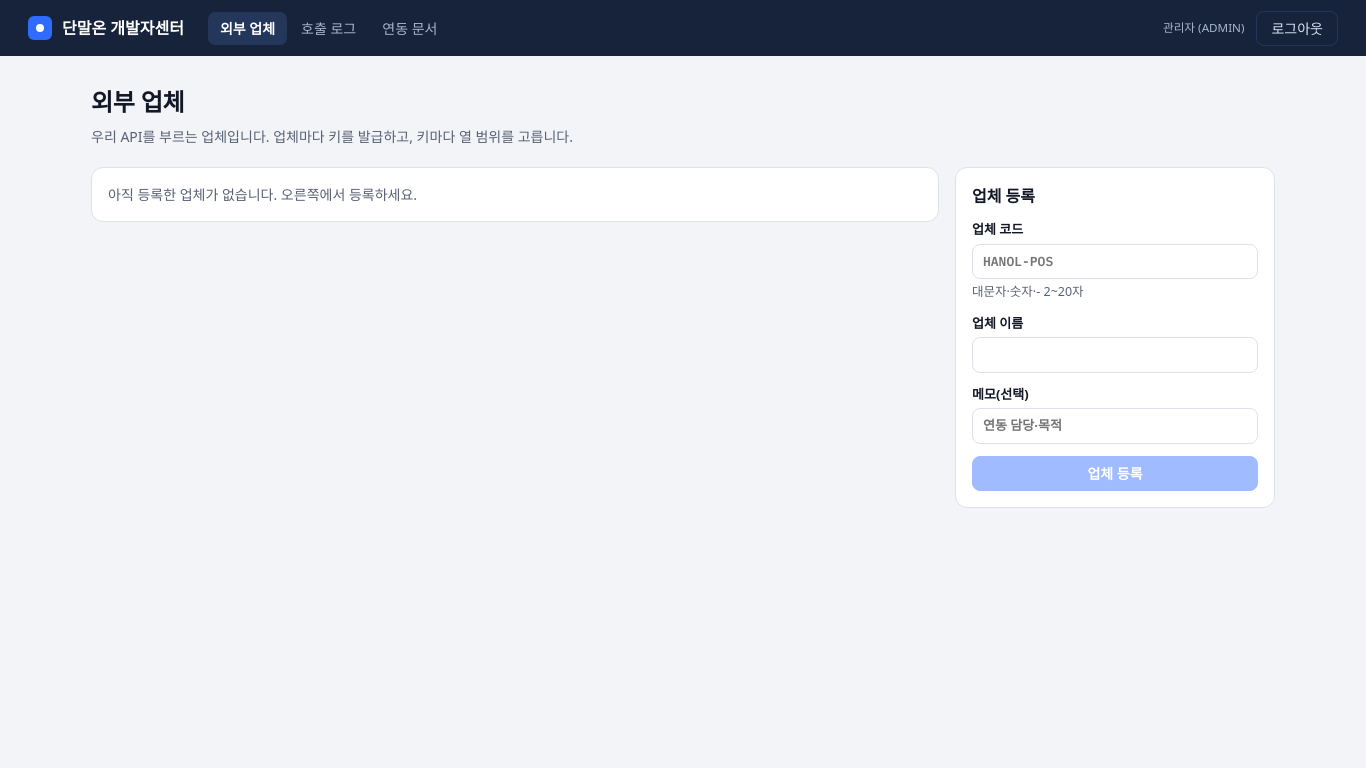
Test case: 외부 업체 화면 (보강 7) › 코드 모양이 틀리면 단추가 꺼지고 규칙을 보인다. 같은 코드는 409 안내
Type "A" into the field labelled "업체 코드" at (1115, 261), box [972,244,1258,279]
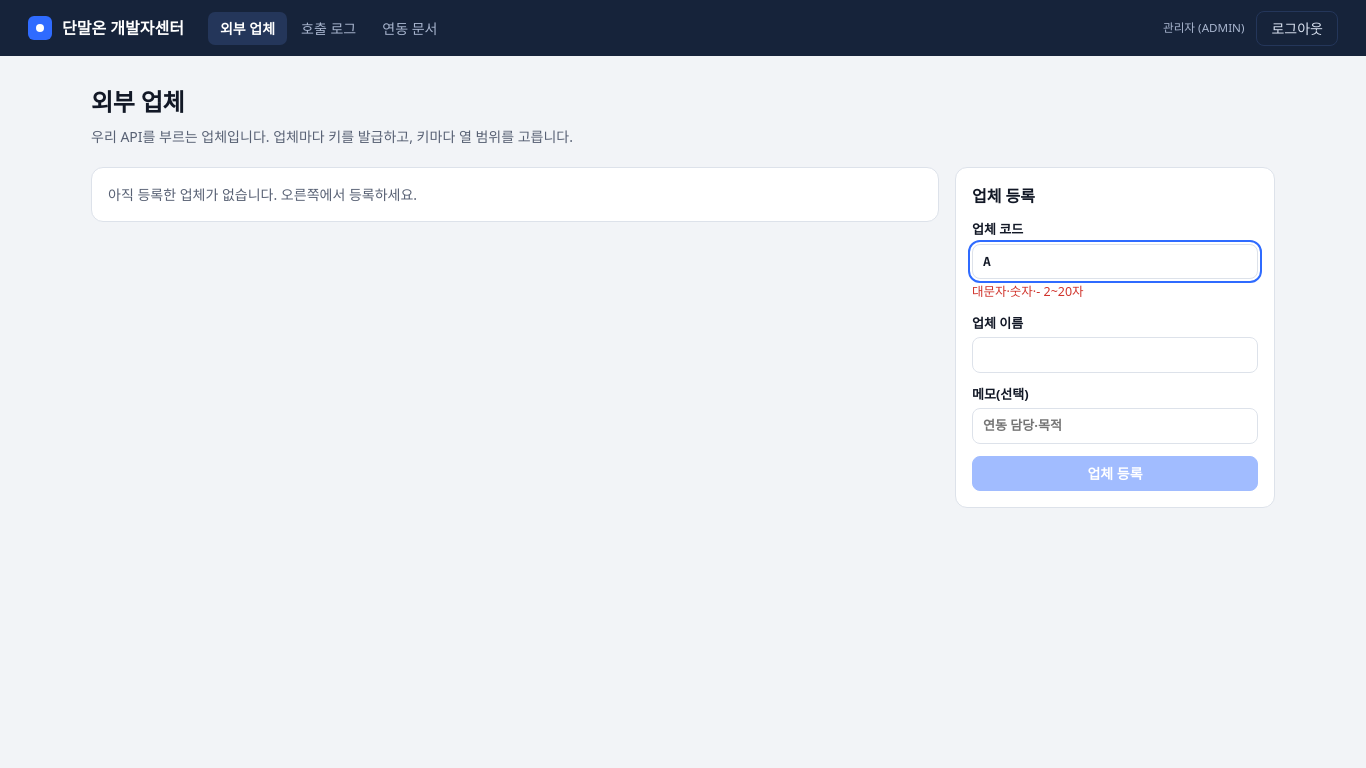
Type "이름" into the field labelled "업체 이름" at (1115, 355), box [972,337,1258,373]
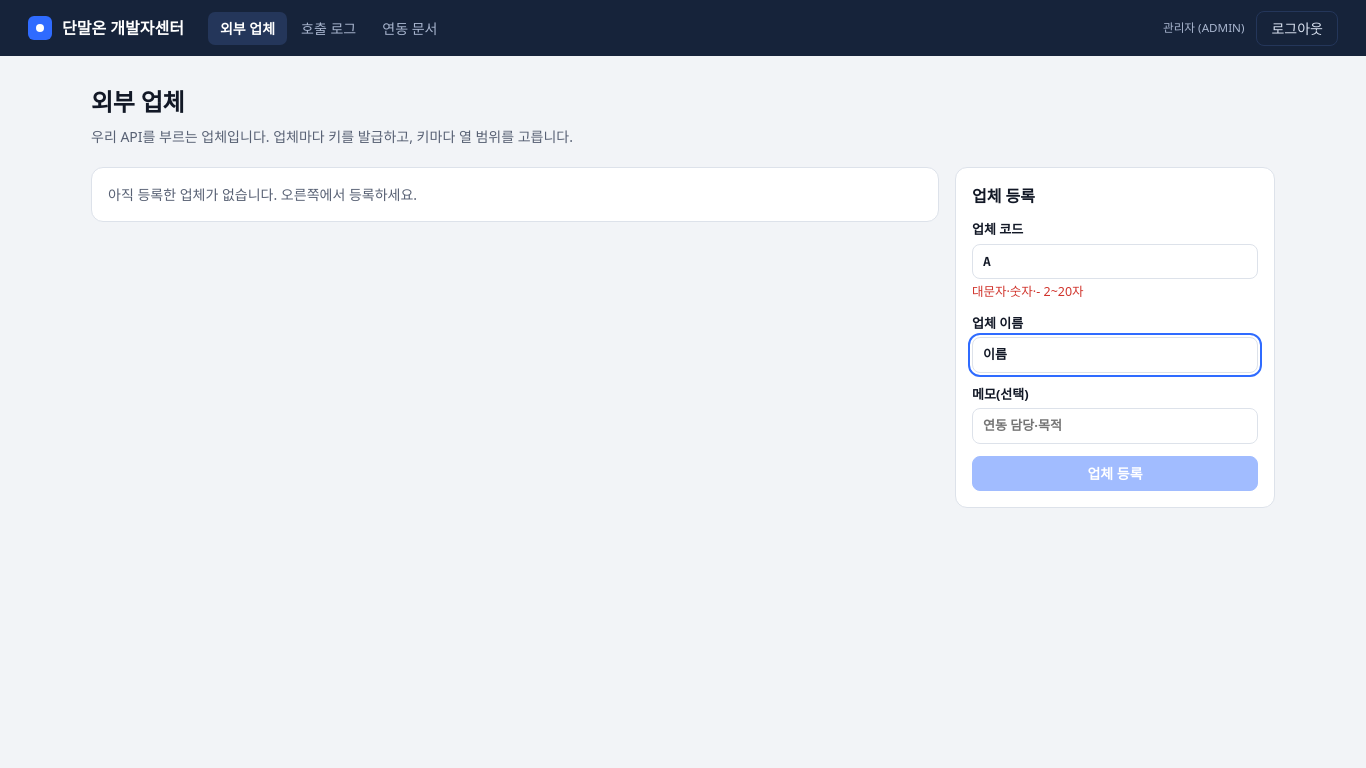
Check: the button "업체 등록" is disabled, box [972,456,1258,491]
Check: the text "대문자·숫자·- 2~20자" is shown, box [972,283,1084,300]
Type "B" into the field labelled "업체 코드" at (1115, 261), box [972,244,1258,279]
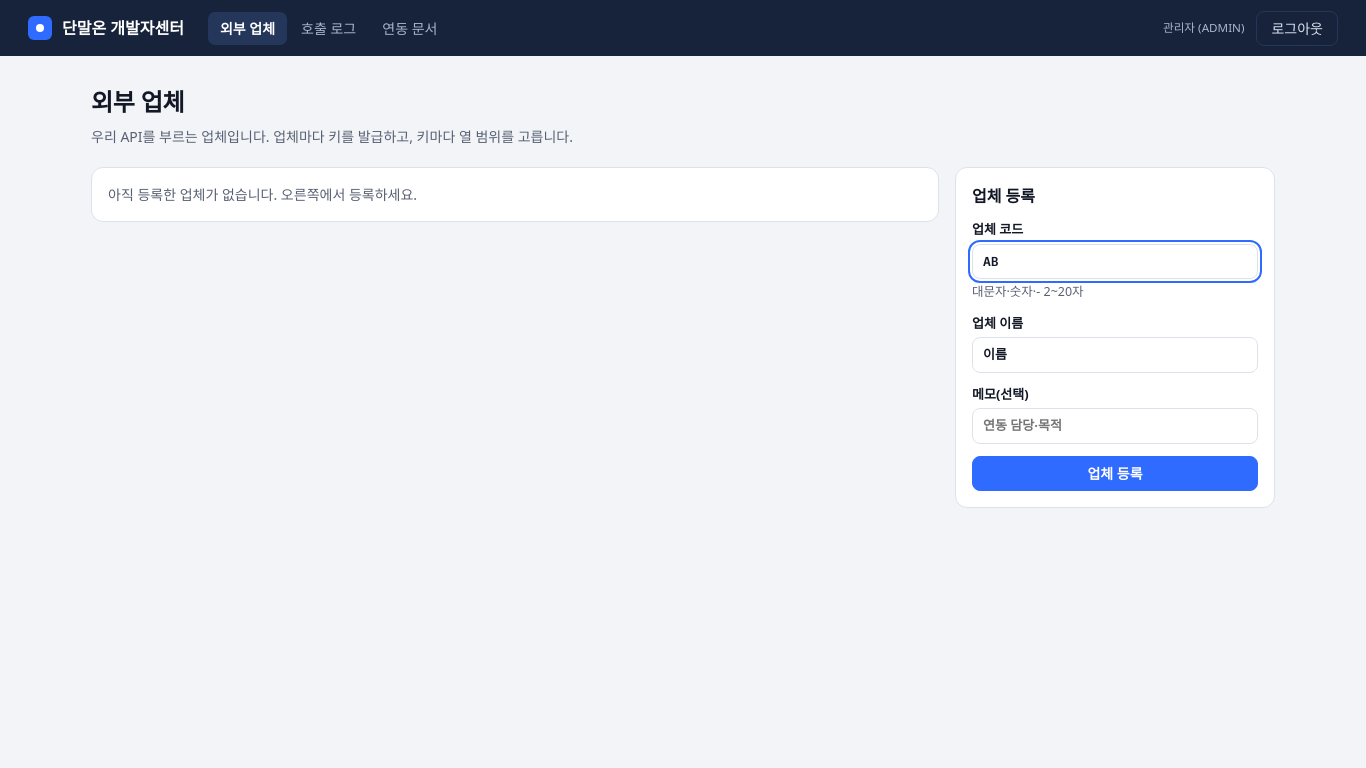
Click the button "업체 등록" at (1115, 473), box [972,456,1258,491]
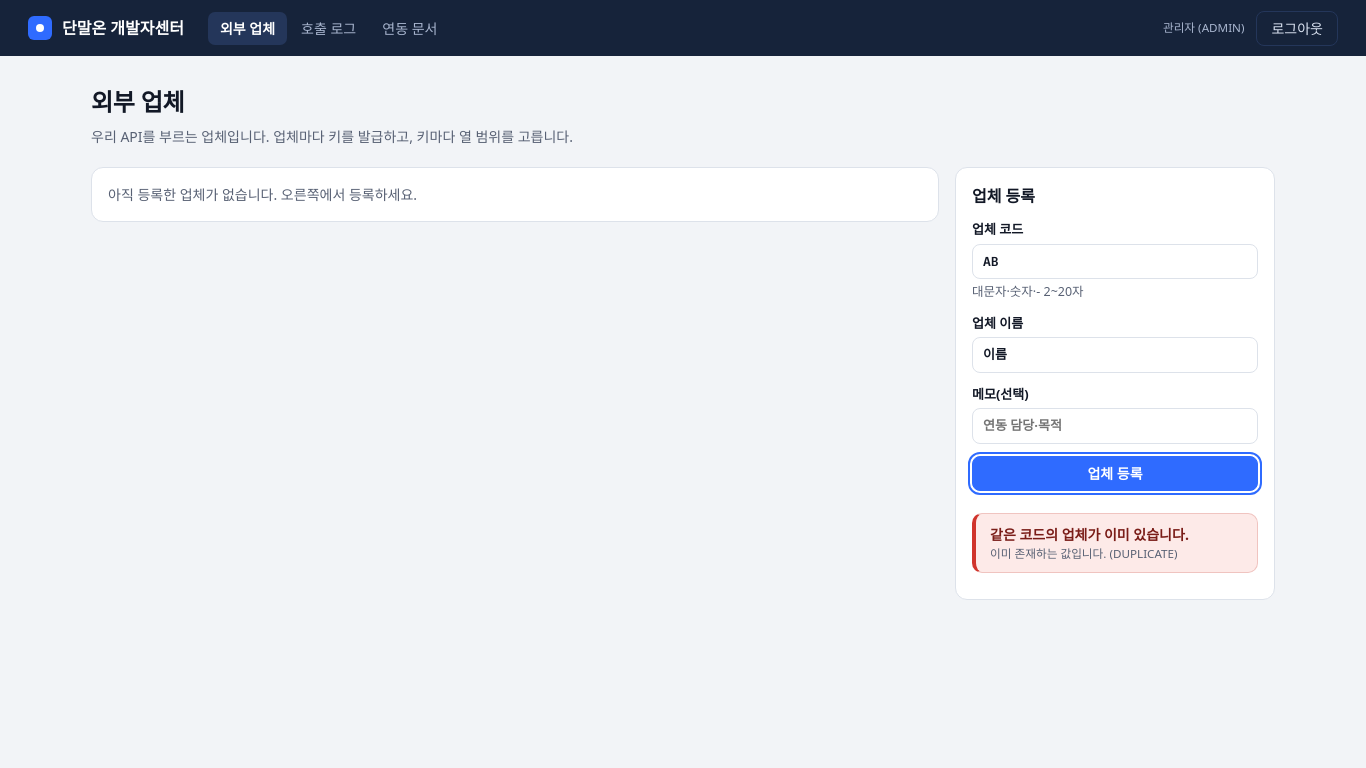
Check: the message shows "같은 코드의 업체가 이미 있습니다.", box [990,525,1189,544]
